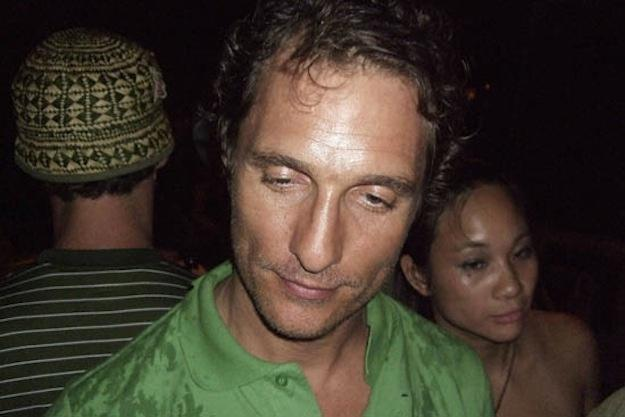Drunk: (244, 52, 413, 329), (444, 197, 540, 342)
